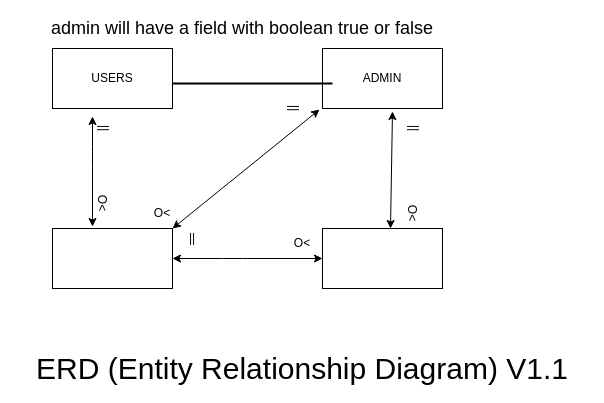
This 604x403 diagram has some shape labels left out. The shapes that lost their labels are listed below. From the top down, each one's centre as x and y in pixels, then its label:
At [112,258]: "COMMENTS".
At [382,258]: "POST".
